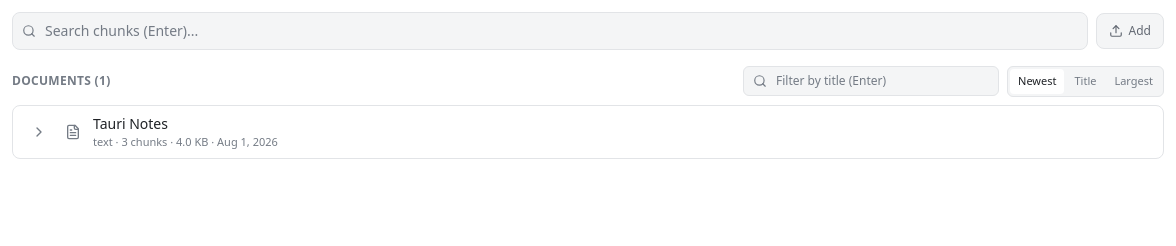
KnowledgePanel › expands a document to load and show its chunks
The width and height of the screenshot is (1176, 246).
expect the text "Tauri Notes" is shown: met, box 93,114 -> 168,132
Step 1. Click the button named "Expand Tauri Notes" → x=39, y=132, box 25,118 -> 53,146
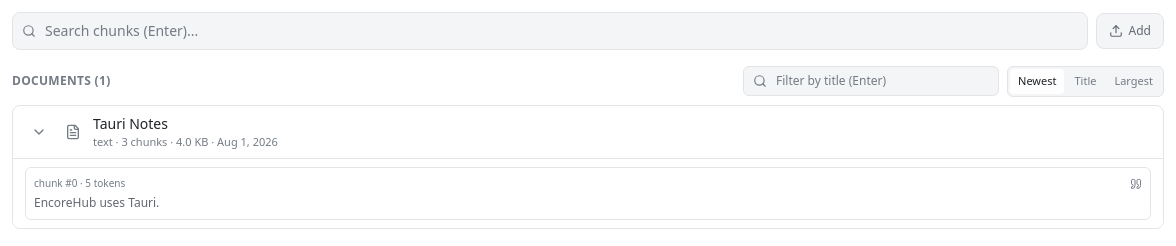
expect the text "chunk #0 · 5 tokens" is shown: met, box 34,176 -> 125,191
